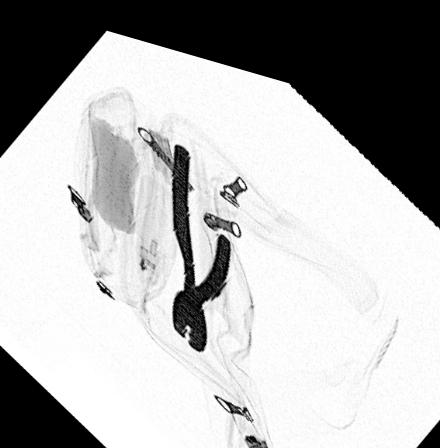Pliers: (168, 132, 231, 342)
